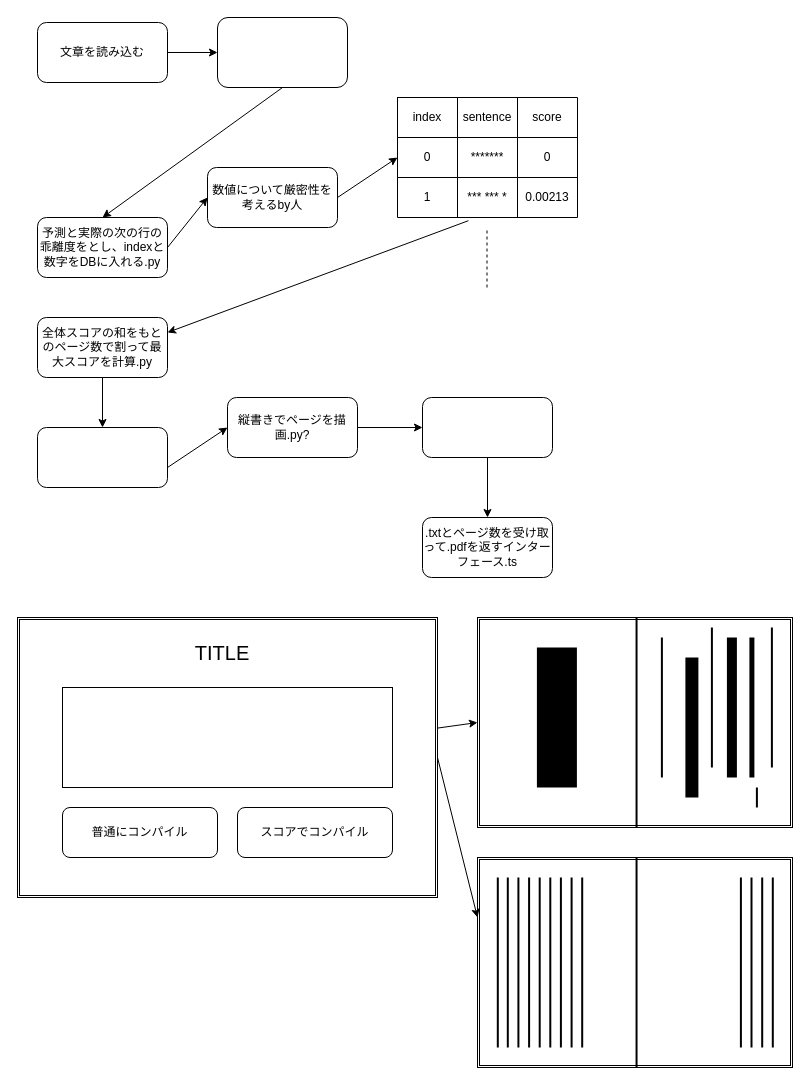
This 810x1086 diagram has some shape labels left out. Each missing label, with the centre of its shape:
"indexをページ番号に振りなおして、DBを新たに作る.py" goes at (102,457).
"PDFに変換して見やすく.py" goes at (487,427).
"今までの文章を読み込んで、openaiを呼び出して次の行を予する.py" goes at (282,52).
"文字を入力するか、ファイルをアップロードしてください" goes at (227,737).
